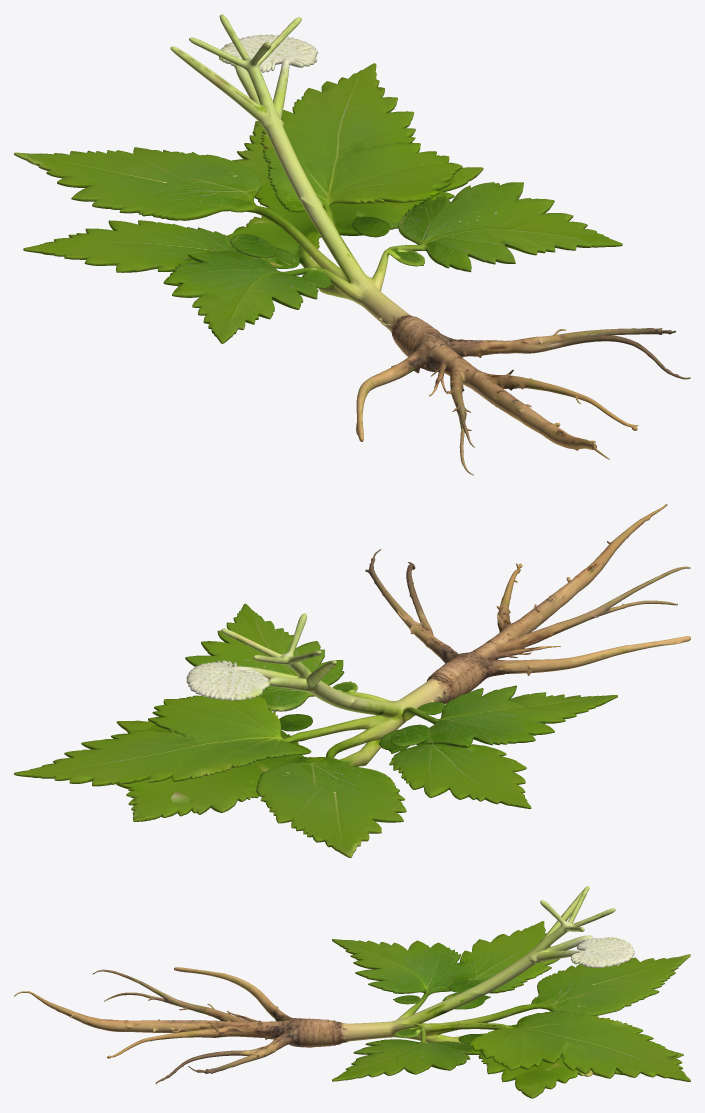
Rendered from danggui.glb.
3 views of the same model, one above another, from view 1: azimuth 30°, elevation 25°; view 2: azimuth 150°, elevation 25°; view 3: azimuth 270°, elevation 25° (orthographic). The views are drawn at different scales.
Visible parts, largest first — view 1: node_0; view 2: node_0; view 3: node_0.
Part boxes in pixels (x1=…): node_0: x1=14, y1=14, x2=690, y2=475; node_0: x1=14, y1=504, x2=690, y2=857; node_0: x1=14, y1=886, x2=690, y2=1098.
Size of the model in its own units: 0.5849 by 0.2542 by 1.04.
1 material, 1 textured.
